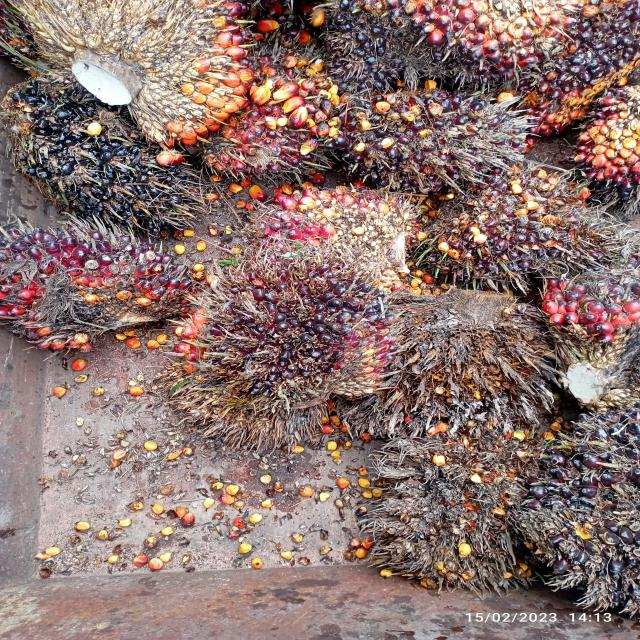fraksi 00: (0, 74, 210, 244), (195, 257, 391, 428), (403, 147, 616, 296), (512, 381, 640, 603), (346, 78, 544, 190), (526, 0, 640, 132), (322, 6, 445, 92)
fraksi 1: (0, 210, 201, 361), (547, 267, 640, 359)
fraksi 3: (211, 172, 420, 290)
